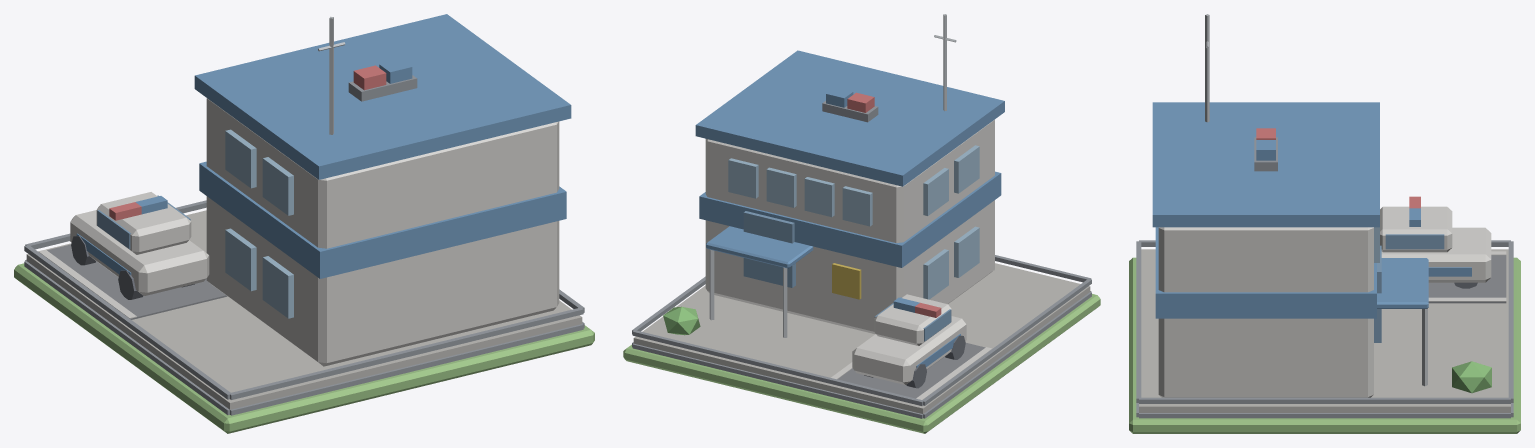
File: publicos__policia.glb
The picture shows the model from 3 angles, left to right: view 1: azimuth 30°, elevation 25°; view 2: azimuth 150°, elevation 25°; view 3: azimuth 270°, elevation 25°; orthographic projection. The views are drawn at different scales.
Parts seen in each view (by area): view 1: publicos__policia; view 2: publicos__policia; view 3: publicos__policia.
Boxes of the visible parts, bbox=[...] form: publicos__policia: bbox=[14, 14, 594, 433]; publicos__policia: bbox=[623, 14, 1100, 433]; publicos__policia: bbox=[1129, 14, 1520, 433].
Bounding box in the file's own units: 2 × 1.81 × 2.
